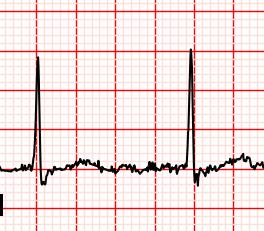ST Depression: (23, 162, 55, 187)
